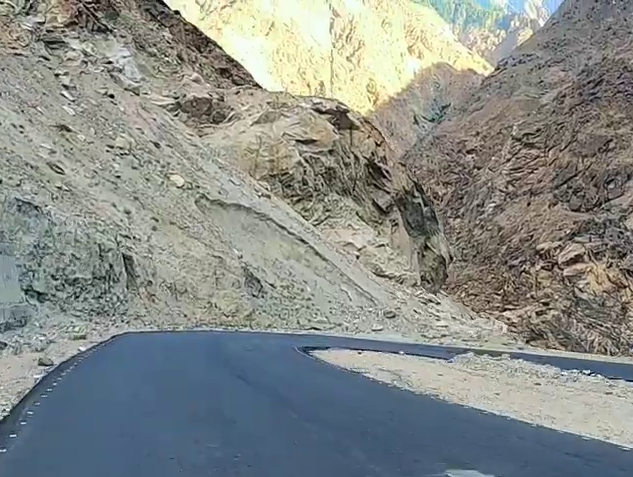stright: (59, 316, 429, 469)
